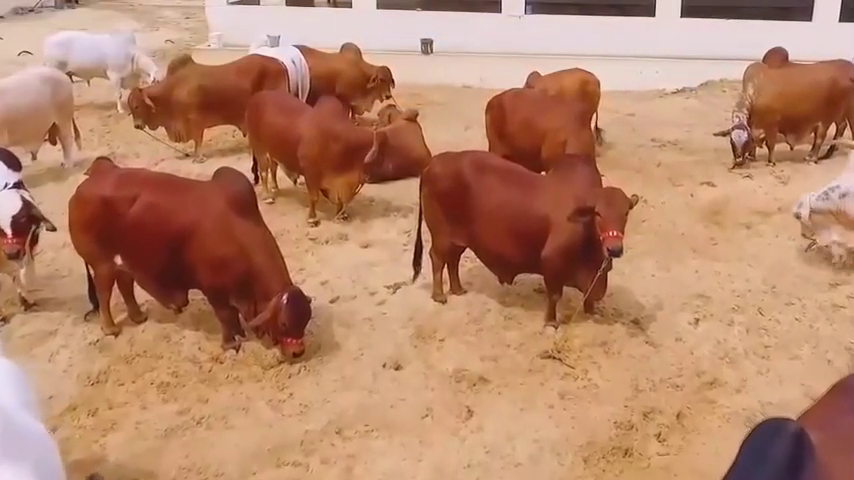bo: (62, 152, 308, 367), (407, 137, 644, 330), (231, 85, 395, 233), (124, 51, 296, 170), (721, 38, 854, 177), (713, 346, 854, 475), (475, 77, 600, 179), (3, 145, 64, 330), (38, 22, 159, 102), (288, 32, 401, 117), (4, 349, 73, 480), (1, 59, 73, 167), (523, 50, 613, 128), (802, 148, 854, 273), (249, 18, 320, 106), (369, 98, 435, 185)
